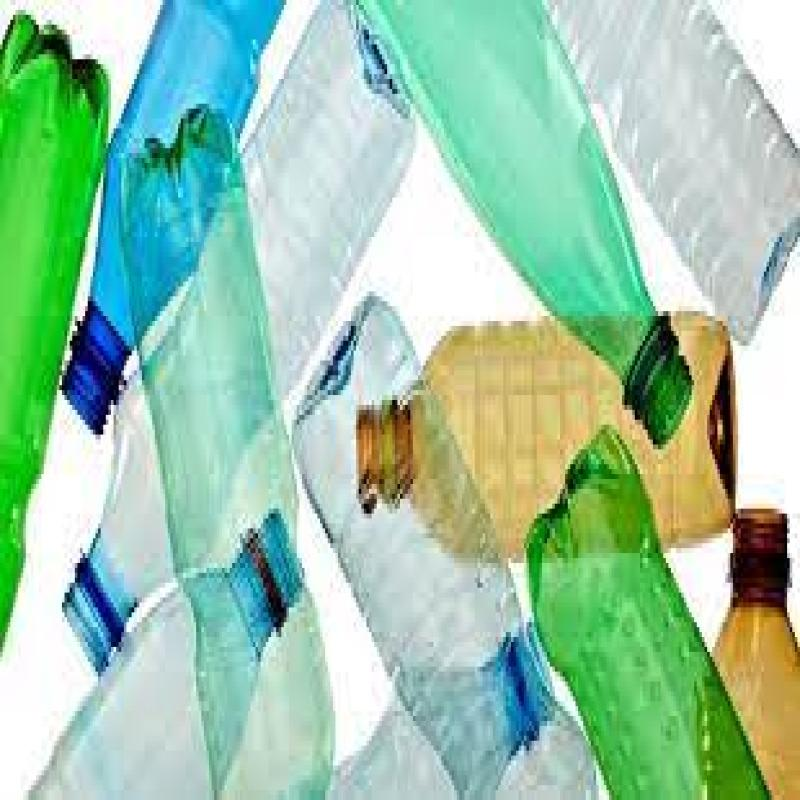botella: (65, 0, 415, 704), (354, 0, 694, 446), (116, 109, 335, 800), (56, 0, 292, 435), (354, 316, 738, 565), (526, 431, 772, 800), (542, 0, 800, 346), (28, 501, 301, 800), (0, 0, 109, 660), (317, 617, 550, 800), (702, 490, 800, 800)
